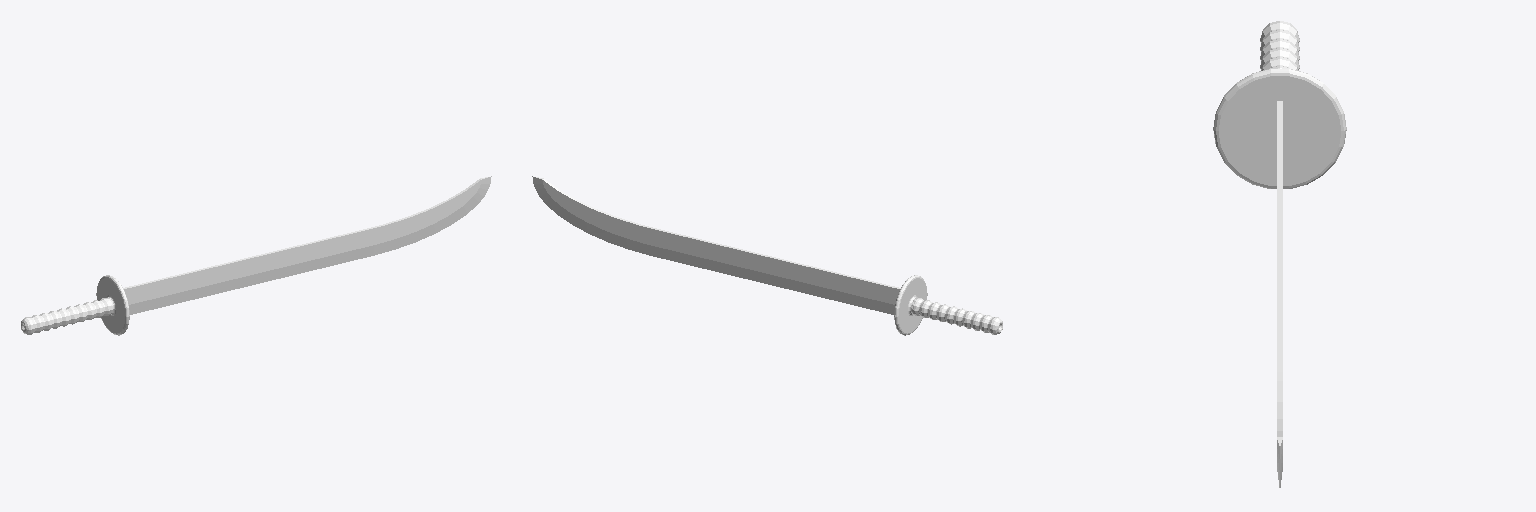
URDF robot description (Sabre.SLDPRT):
<?xml version="1.0" encoding="utf-8"?>
<!-- This URDF was automatically created by SolidWorks to URDF Exporter! Originally created by [author] ([email redacted]) 
     Commit Version: 1.5.1-0-g916b5db  Build Version: 1.5.7152.31018
     For more information, please see http://wiki.ros.org/sw_urdf_exporter -->
<robot
  name="Sabre.SLDPRT">
  <link
    name="Sabre">
    <inertial>
      <origin
        xyz="0.37301 -3.05430000311002E-08 -0.5079214"
        rpy="0 0 0" />
      <mass
        value="0.60441" />
      <inertia
        ixx="0.00039461"
        ixy="1.05220000000779E-08"
        ixz="-0.0012726"
        iyy="0.056288"
        iyz="-6.02900000007164E-10"
        izz="0.056171" />
    </inertial>
    <visual>
      <origin
        xyz="0 0 0"
        rpy="1.5707963267949 0 0" />
      <geometry>
        <mesh
          filename="package://Sabre/meshes/Sabre.STL" />
      </geometry>
      <material
        name="">
        <color
          rgba="1 1 1 1" />
        <texture
          filename="package://Sabre/textures/" />
      </material>
    </visual>
    <collision>
      <origin
        xyz="0 0 0"
        rpy="1.5707963267949 0 0" />
      <geometry>
        <mesh
          filename="package://Sabre/meshes/Sabre.STL" />
      </geometry>
    </collision>
  </link>
</robot>

--- Facts derived from the render (not from the file) ---
The picture shows the robot from 3 angles, left to right: view 1: azimuth 30°, elevation 25°; view 2: azimuth 150°, elevation 25°; view 3: azimuth 270°, elevation 25°; orthographic projection.
Robot: Sabre.SLDPRT — 1 links, 0 joints (none); root link Sabre; default pose: all joints at 0.
Links seen in each view (by area): view 1: Sabre; view 2: Sabre; view 3: Sabre.
Link boxes in pixels (x1,y1,x2,y2): Sabre: [21, 176, 491, 335]; Sabre: [532, 176, 1002, 335]; Sabre: [1213, 21, 1346, 487].
Bounding box of the posed robot: 1.11 × 0.127 × 0.1454 m (x, y, z).
Meshes: 1 distinct files referenced, 1 mesh visuals loaded (1 binary STL).